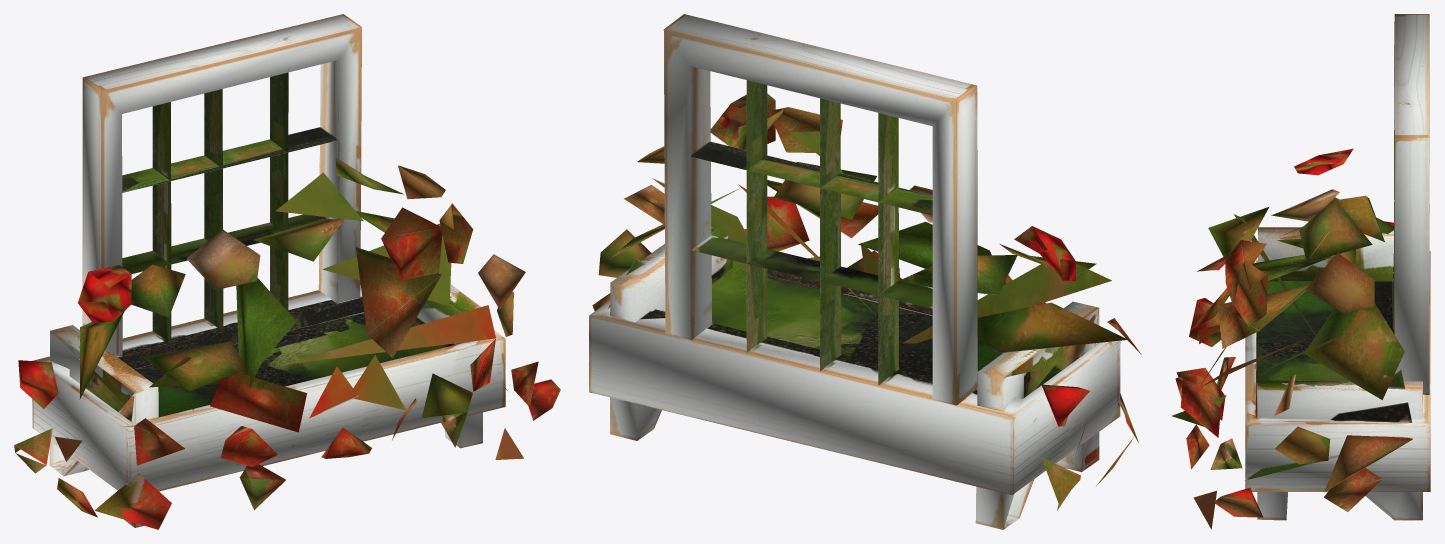
File: flower_box.glb
3 renders of one model, left to right at view 1: azimuth 30°, elevation 25°; view 2: azimuth 150°, elevation 25°; view 3: azimuth 270°, elevation 25°, orthographic. The views are drawn at different scales.
Bounding box in the file's own units: 1.8 × 1.4 × 0.9069.
Materials: 1 (1 with a texture image).
